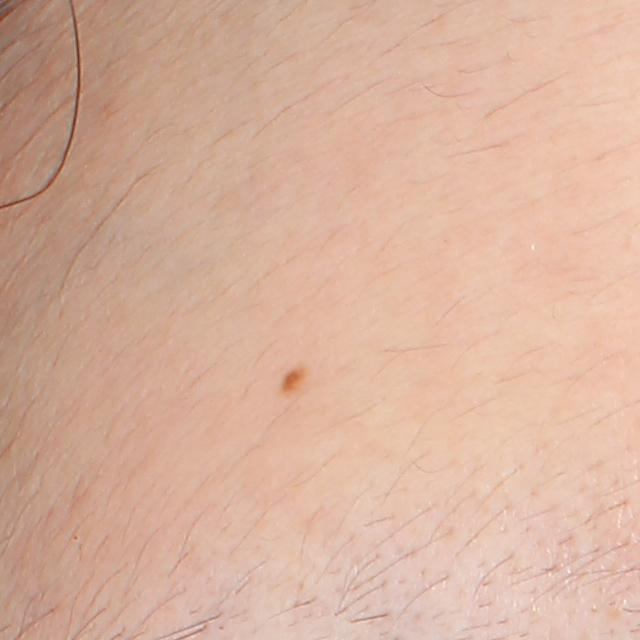nevus: (275, 367, 303, 392)
